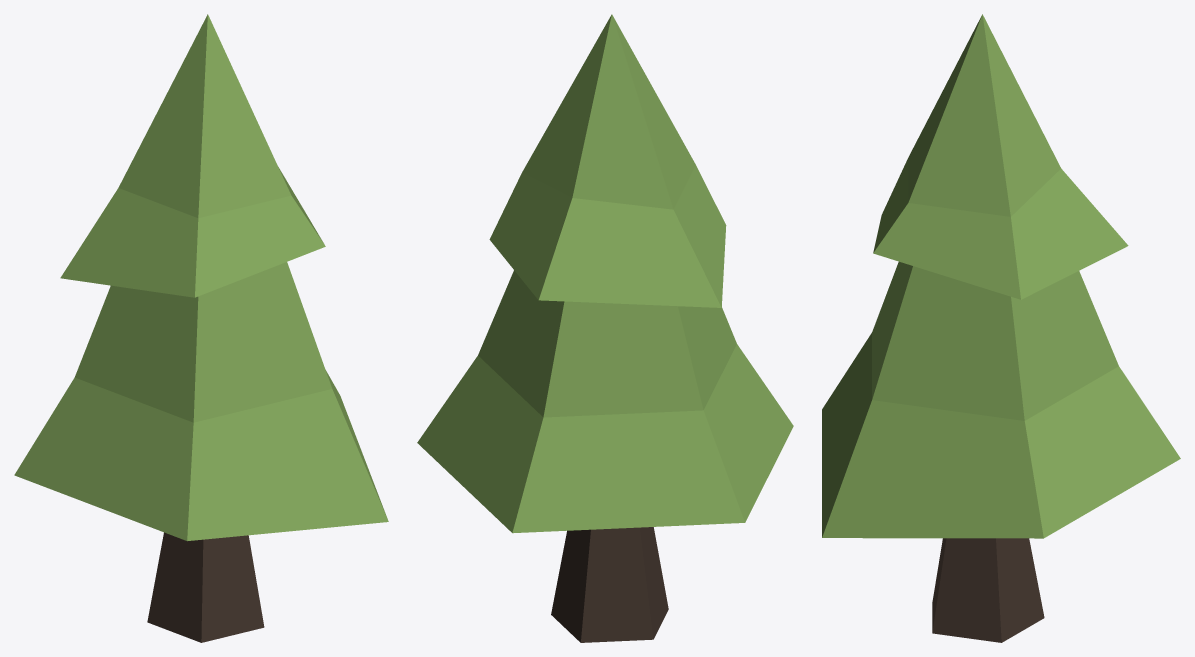
File: lightgreen_conetree3.fbx
The picture shows the model from 3 angles, left to right: view 1: azimuth 30°, elevation 25°; view 2: azimuth 150°, elevation 25°; view 3: azimuth 270°, elevation 25°; orthographic projection.
Parts seen in each view (by area): view 1: lightgreen_conetree3; view 2: lightgreen_conetree3; view 3: lightgreen_conetree3.
Boxes of the visible parts, x1=… form: lightgreen_conetree3: x1=14, y1=14, x2=388, y2=642; lightgreen_conetree3: x1=417, y1=14, x2=793, y2=642; lightgreen_conetree3: x1=822, y1=14, x2=1180, y2=642.
Size of the model in its own units: 412 by 727 by 392.
